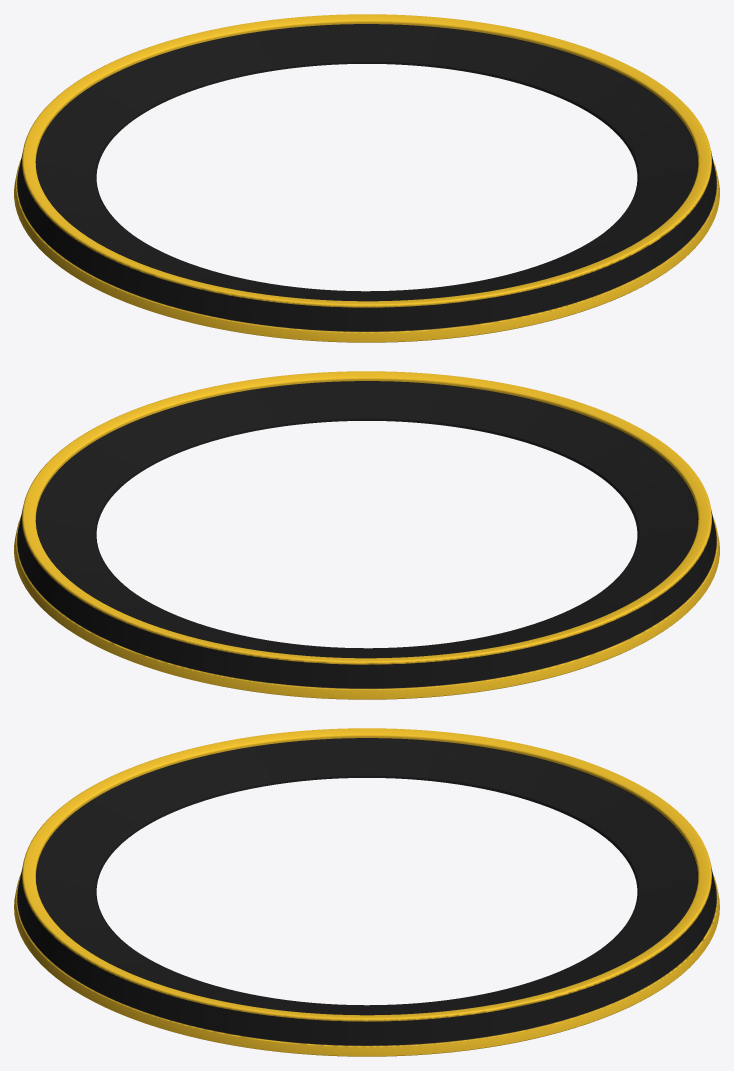
Rendered from WheelBottom.fbx.
3 renders of one model, top to bottom at view 1: azimuth 30°, elevation 25°; view 2: azimuth 150°, elevation 25°; view 3: azimuth 270°, elevation 25°, orthographic.
Parts seen in each view (by area): view 1: WheelBase; view 2: WheelBase; view 3: WheelBase.
Boxes of the visible parts, <box> form: WheelBase: <box>14,14,719,342</box>; WheelBase: <box>14,371,719,699</box>; WheelBase: <box>14,728,719,1056</box>.
Size of the model in its own units: 79.73 by 4.3 by 79.73.
Materials: 1 (1 with a texture image).
